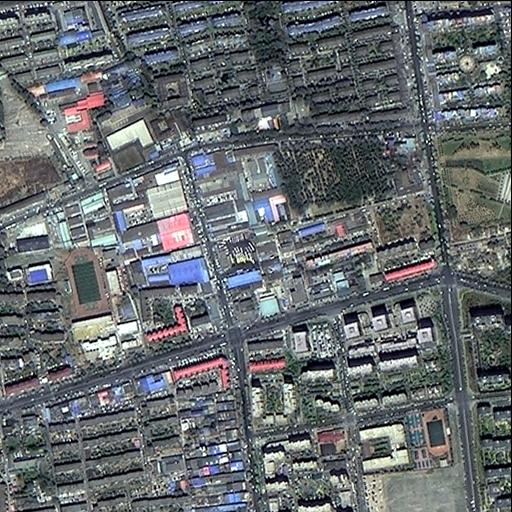school: (62, 240, 138, 374), (356, 401, 454, 479)
